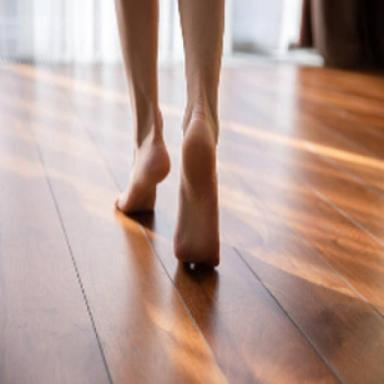normal skin: (174, 0, 224, 267), (115, 0, 169, 212)
